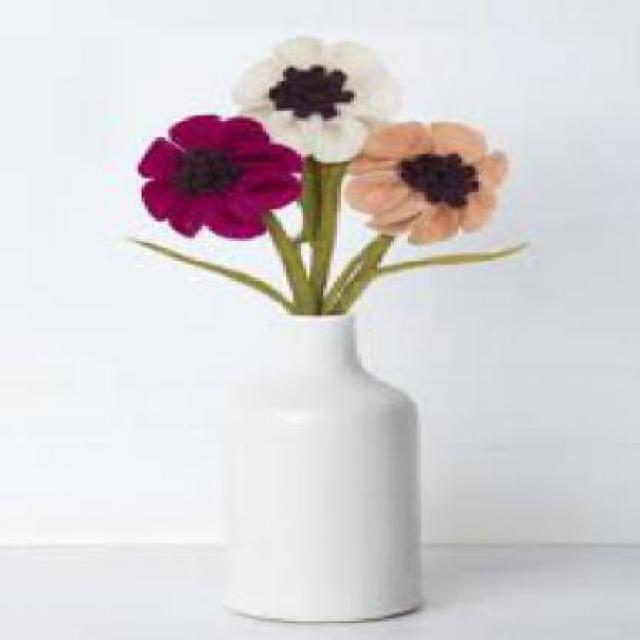Flower: (232, 38, 405, 164), (343, 120, 512, 246), (138, 115, 304, 241)
